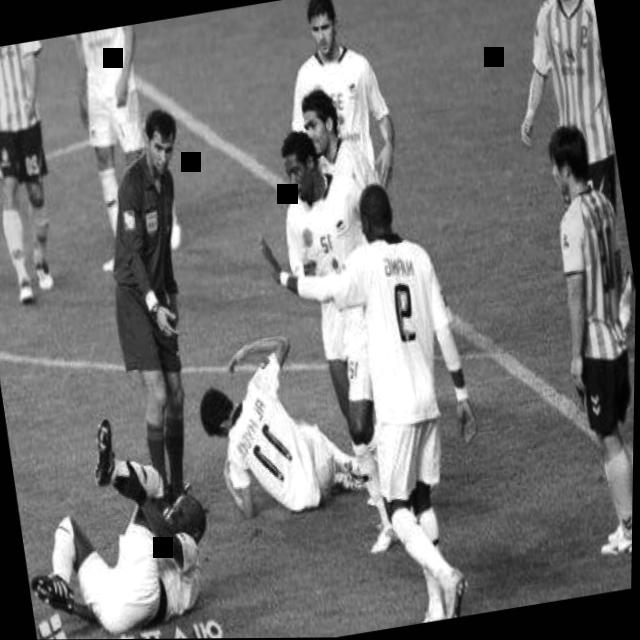Fall-Detected: (184, 300, 385, 538)
